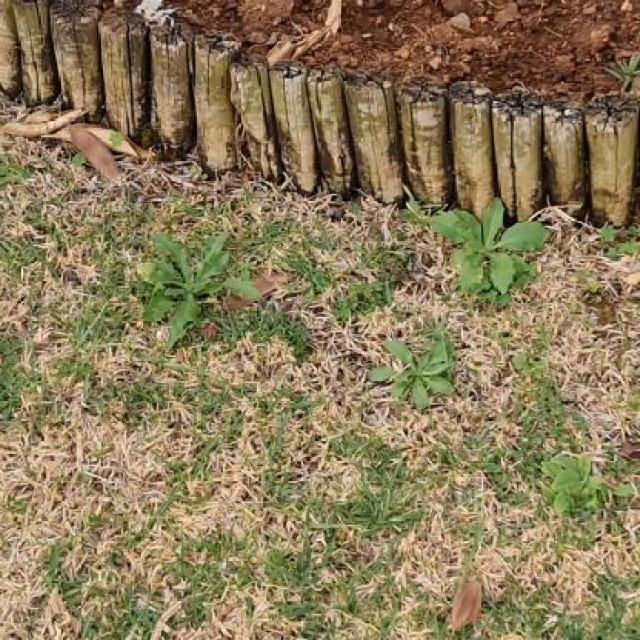weed: (145, 235, 262, 347), (431, 198, 549, 302), (371, 335, 455, 410), (543, 457, 611, 515)
